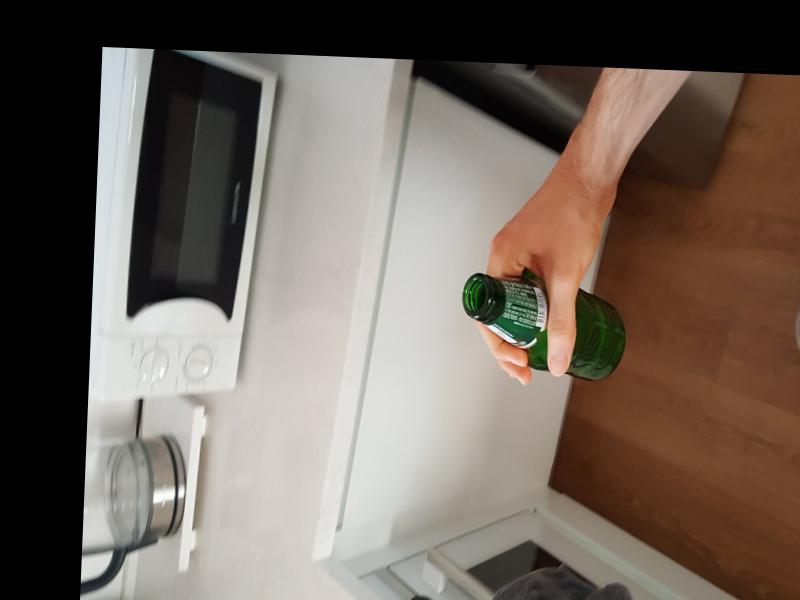Beer: (461, 272, 628, 382)
